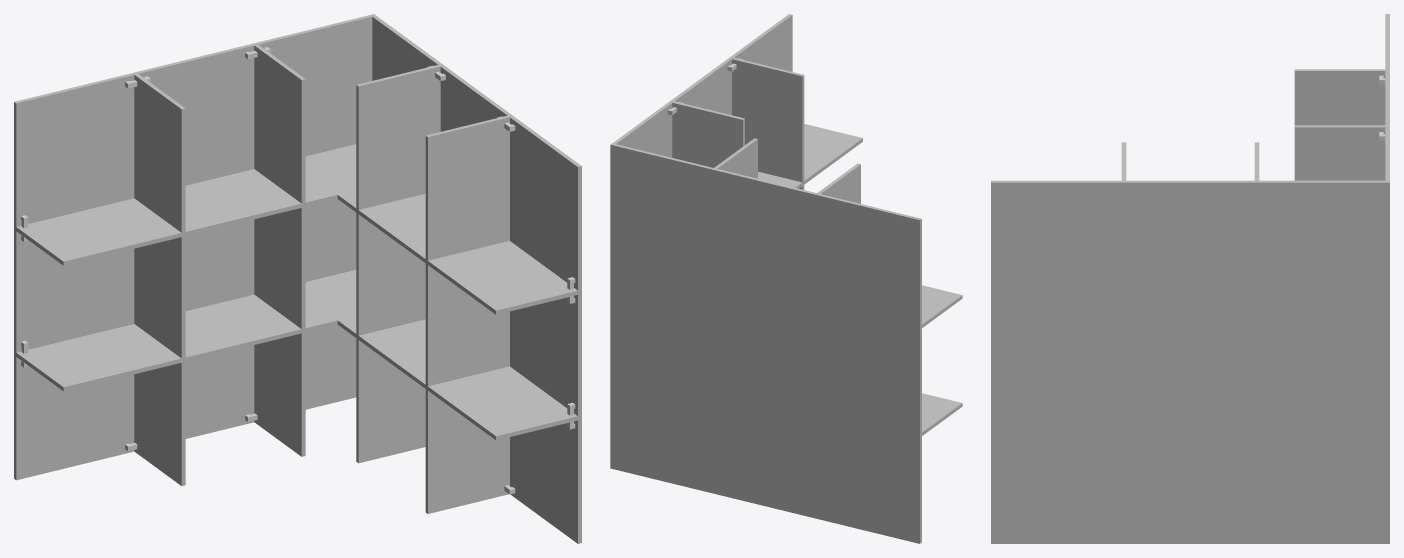
The model's file is Building_Deco_03_Corner.FBX.
The picture shows the model from 3 angles, left to right: view 1: azimuth 30°, elevation 25°; view 2: azimuth 150°, elevation 25°; view 3: azimuth 270°, elevation 25°; orthographic projection. The views are drawn at different scales.
Visible parts, largest first — view 1: Building_Deco_03_Corner_LOD0; view 2: Building_Deco_03_Corner_LOD0; view 3: Building_Deco_03_Corner_LOD0.
Part boxes in pixels (box(x1,y1,x2,y2)): Building_Deco_03_Corner_LOD0: box(14, 14, 581, 543); Building_Deco_03_Corner_LOD0: box(610, 14, 962, 543); Building_Deco_03_Corner_LOD0: box(991, 14, 1389, 543).
Size of what is drawn, in the model's own units: 180 by 180 by 180.
